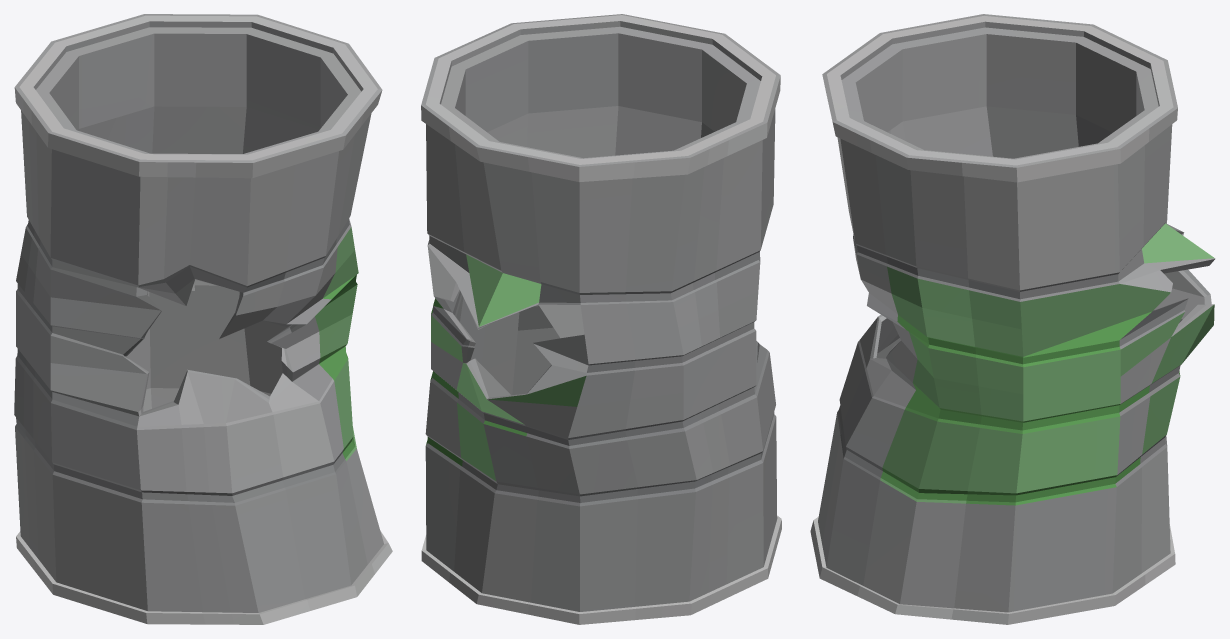
Rendered from shot_can_with_food_a.glb.
The picture shows the model from 3 angles, left to right: view 1: azimuth 30°, elevation 25°; view 2: azimuth 150°, elevation 25°; view 3: azimuth 270°, elevation 25°; orthographic projection.
Parts seen in each view (by area): view 1: shot_can_with_food_a; view 2: shot_can_with_food_a; view 3: shot_can_with_food_a.
Part boxes in pixels (left/top/right/bottom): shot_can_with_food_a: left=14, top=14, right=392, bottom=624; shot_can_with_food_a: left=421, top=14, right=781, bottom=624; shot_can_with_food_a: left=810, top=14, right=1215, bottom=624.
Size of the model in its own units: 0.1106 by 0.1517 by 0.122.
Materials: 1 (1 with a texture image).
